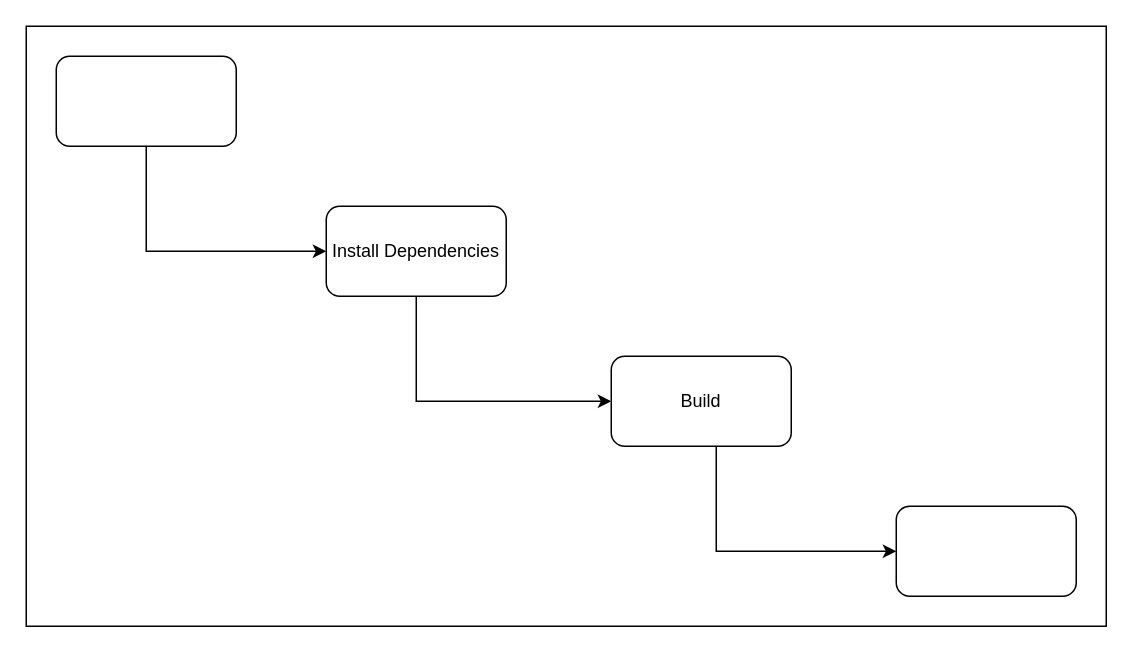
Some shapes in this 1133 by 653 pixel diagram are drawn without their labels. The shapes that lost their labels are listed below. From the top down, each one's centre as x and y in pixels, then its label:
At (x=145, y=100): "Setup Environment".
At (x=985, y=550): "Deploy".
